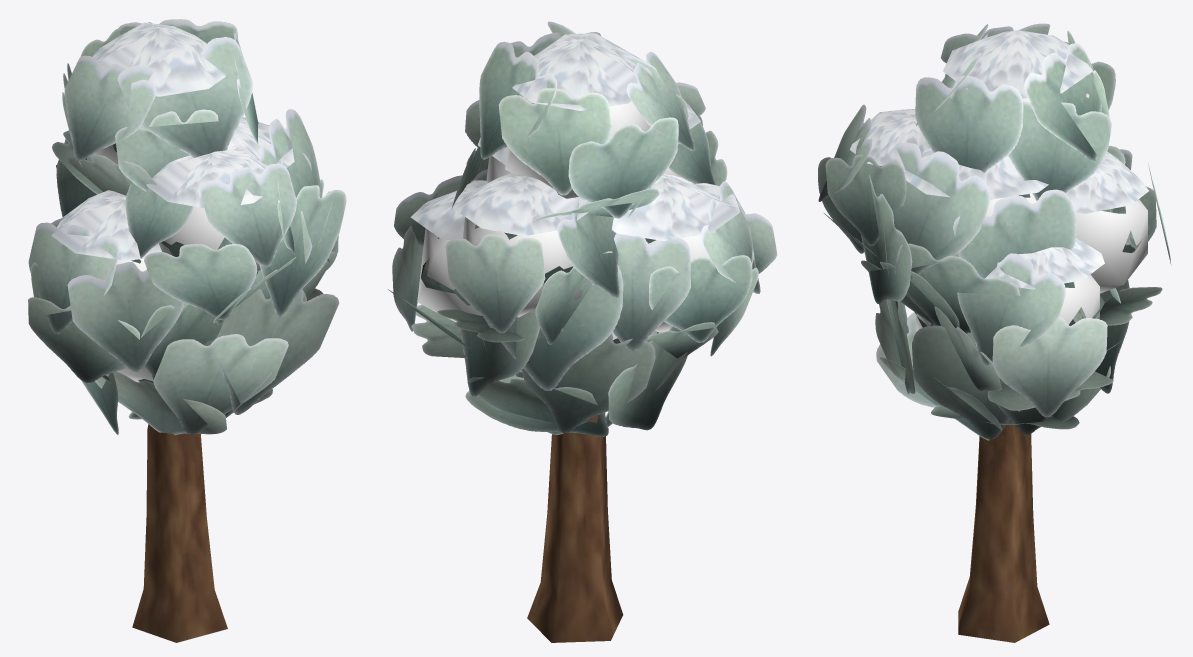
Rendered from tree-tall-winter.lod1.glb.
3 views of the same model, side by side, from view 1: azimuth 30°, elevation 25°; view 2: azimuth 150°, elevation 25°; view 3: azimuth 270°, elevation 25° (orthographic).
Parts seen in each view (by area): view 1: Crown, Trunk, Hull; view 2: Crown, Trunk, Hull; view 3: Crown, Trunk, Hull.
Boxes of the visible parts, bbox=[...] form: Crown: bbox=[28, 19, 346, 435]; Trunk: bbox=[132, 424, 227, 642]; Hull: bbox=[93, 126, 260, 382]; Crown: bbox=[388, 21, 777, 436]; Trunk: bbox=[527, 415, 623, 642]; Hull: bbox=[417, 101, 710, 371]; Crown: bbox=[818, 23, 1171, 440]; Trunk: bbox=[958, 425, 1049, 642]; Hull: bbox=[916, 93, 1147, 346].
Bounding box in the file's own units: 2.1 × 3.49 × 1.95.
3 materials, 2 textured.
